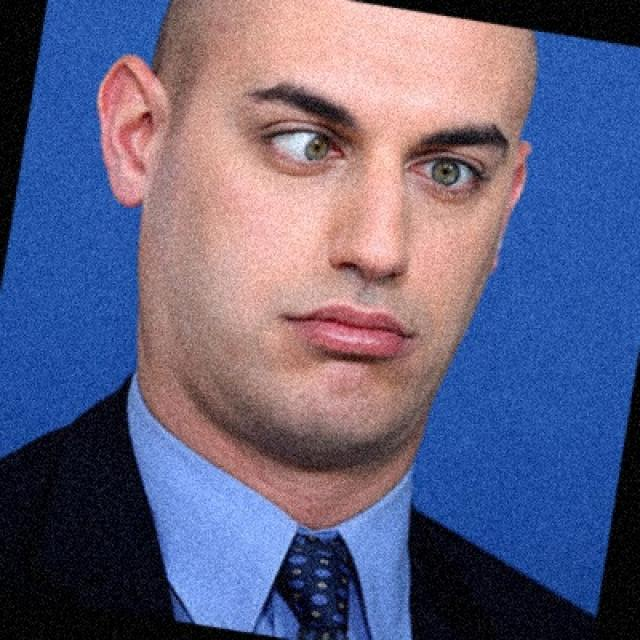Healthy-Eye: (400, 133, 493, 208)
Squint: (262, 109, 341, 184)
